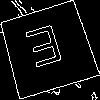E: (23, 24, 68, 78)
